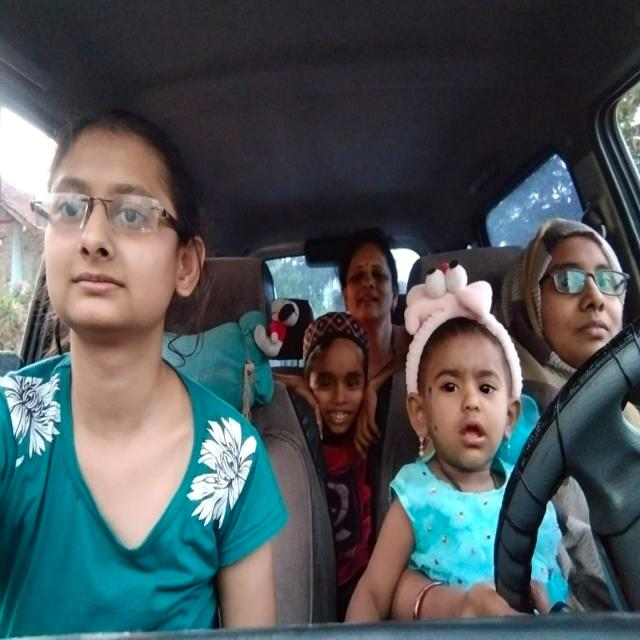child: (409, 303, 524, 467)
person: (33, 127, 203, 320), (533, 215, 629, 352), (309, 315, 368, 428), (334, 238, 403, 323)
